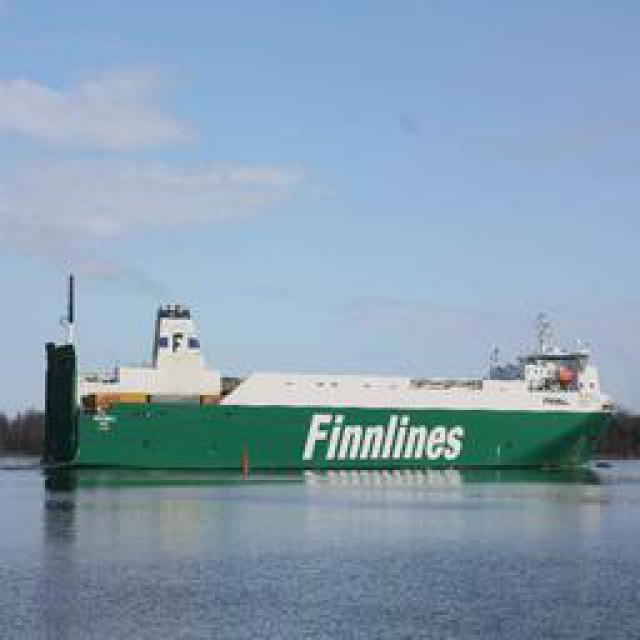Ship: (46, 291, 619, 479)
